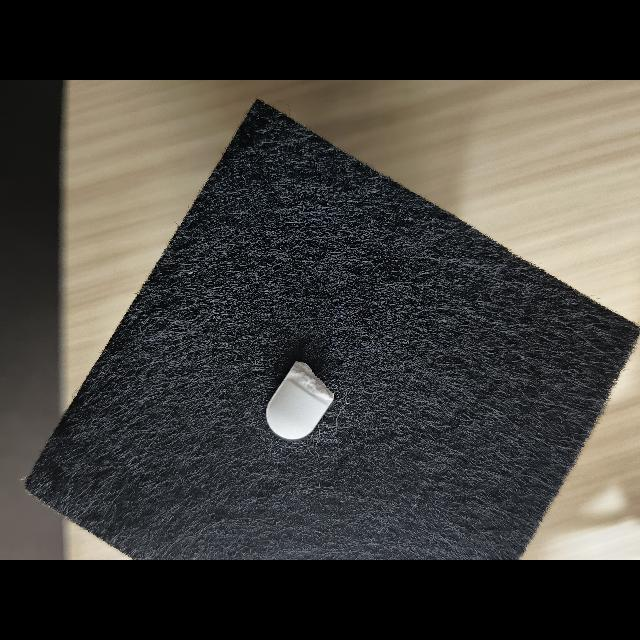Chipped Pill: (266, 361, 335, 440)
